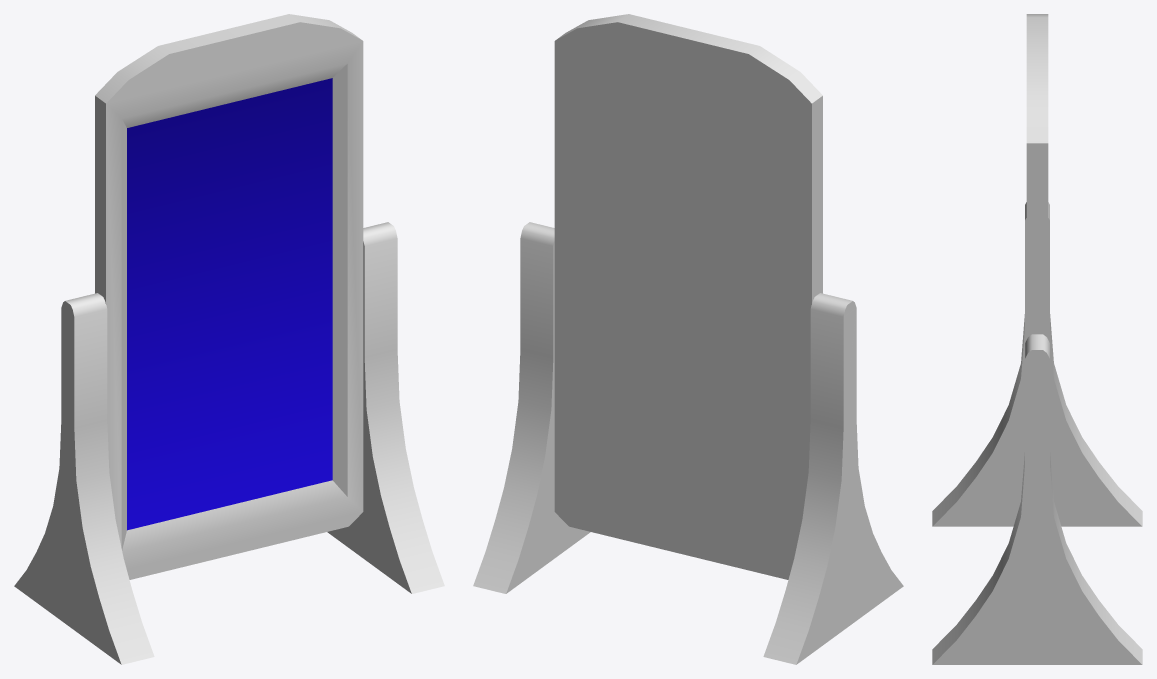
Rendered from Mirror.fbx.
The picture shows the model from 3 angles, left to right: view 1: azimuth 30°, elevation 25°; view 2: azimuth 150°, elevation 25°; view 3: azimuth 270°, elevation 25°; orthographic projection. The views are drawn at different scales.
Parts seen in each view (by area): view 1: Cube, Cube.001; view 2: Cube, Cube.001; view 3: Cube.001, Cube.
Boxes of the visible parts, <box> form: Cube: <box>95,14,363,579</box>; Cube.001: <box>14,222,444,664</box>; Cube: <box>554,14,822,579</box>; Cube.001: <box>473,222,903,664</box>; Cube.001: <box>932,202,1142,664</box>; Cube: <box>1026,14,1048,339</box>.
Bounding box in the file's own units: 50.27 × 82.07 × 28.98.
